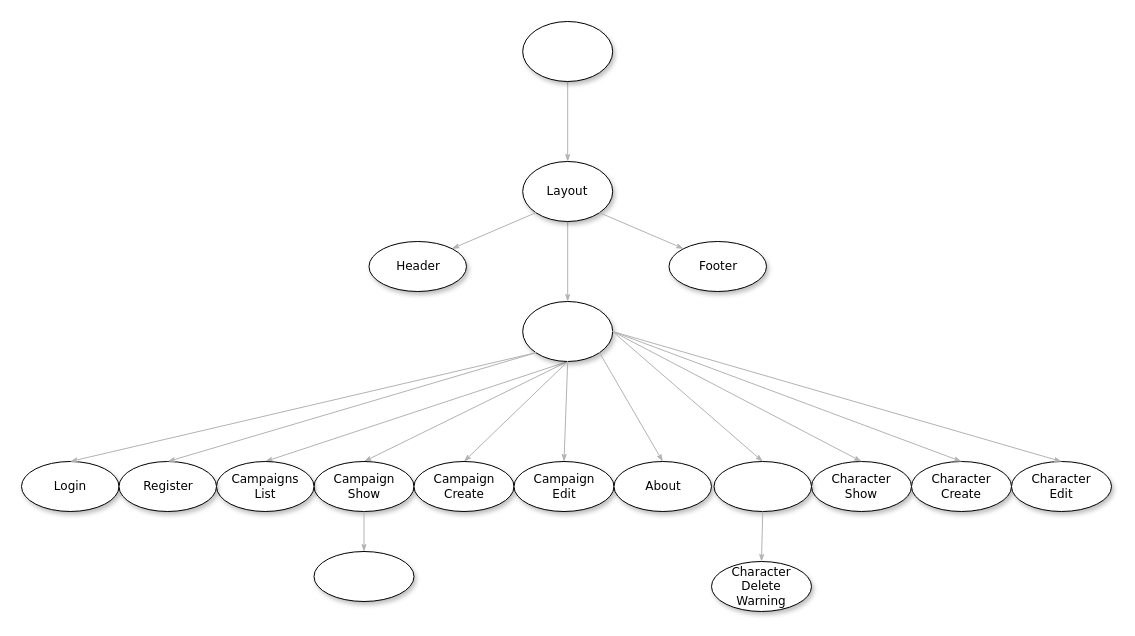
Some shapes in this 1135 by 636 pixel diagram are drawn without their labels. Each missing label, with the centre of its shape:
"App" goes at (568,52).
"Campaign Delete Warning" goes at (364,577).
"Character List" goes at (763,487).
"Main" goes at (568,332).
